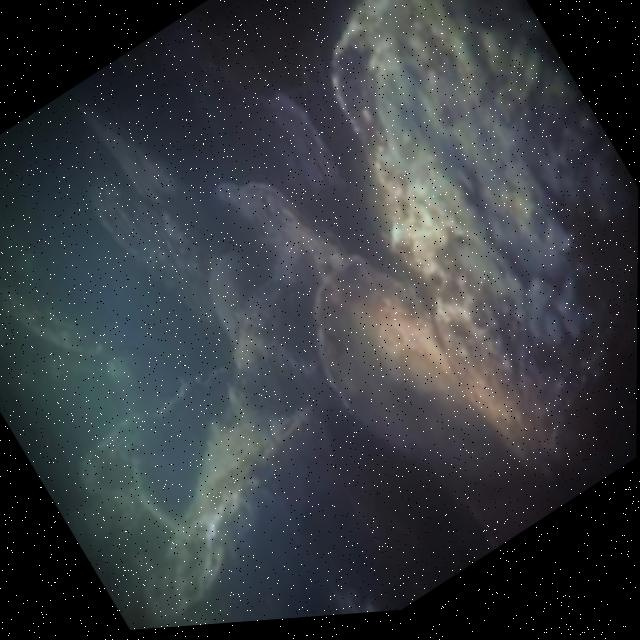Oyster-Closed: (73, 369, 219, 494), (210, 175, 340, 281)
Oyster-Indeterminate: (376, 18, 638, 468), (314, 253, 531, 485), (168, 410, 341, 624), (71, 95, 232, 242), (94, 173, 222, 333)
